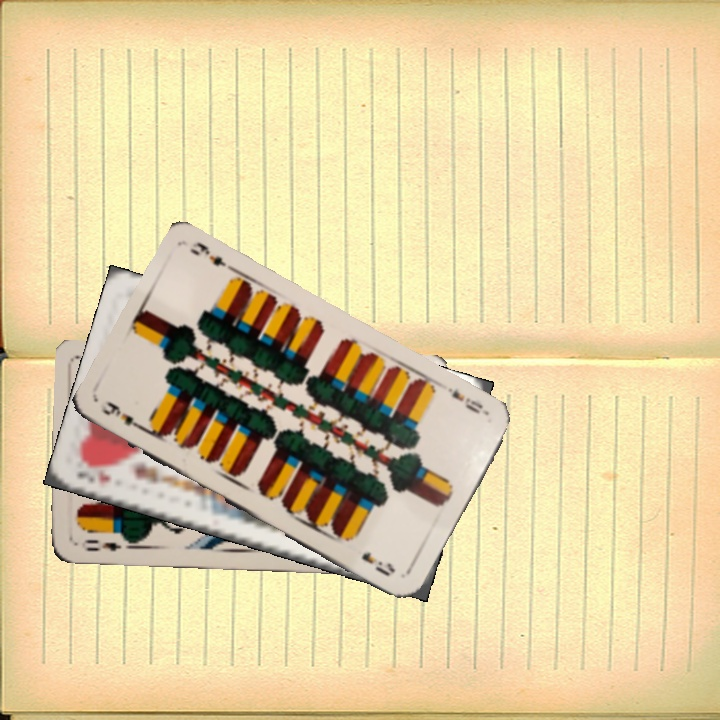E9: (96, 397, 150, 434), (443, 383, 486, 417)
EO: (78, 535, 124, 554)
HK: (72, 465, 113, 487)
